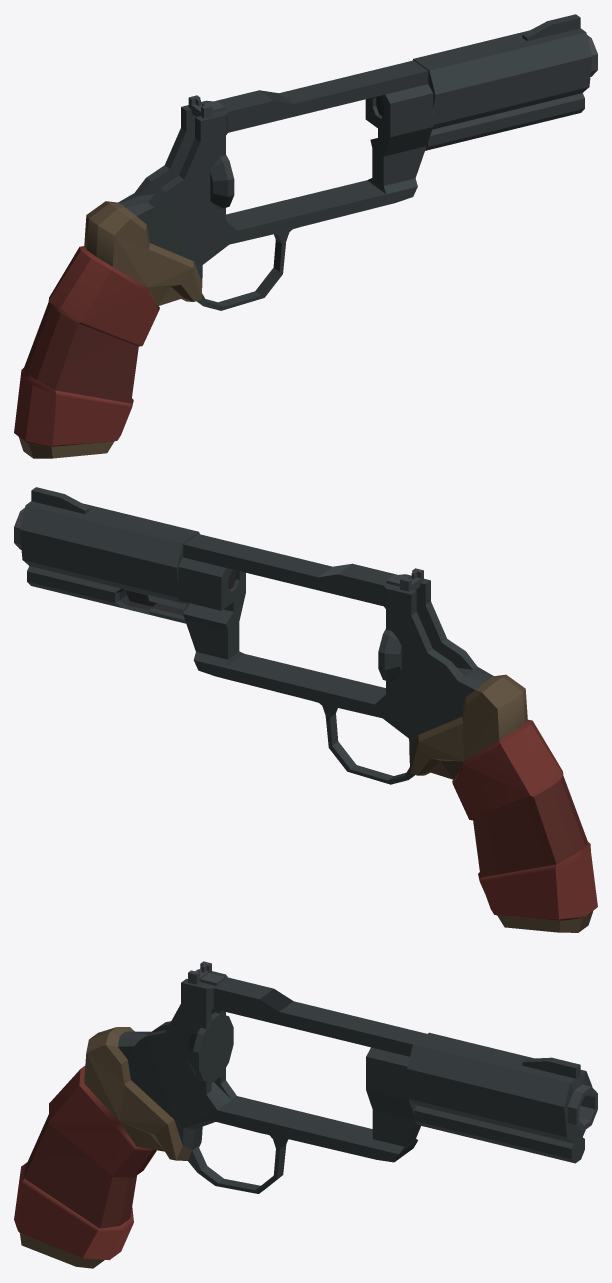
Rendered from apoc_SM_Wep_Revolver_01.gltf.
3 views of the same model, one above another, from view 1: azimuth 30°, elevation 25°; view 2: azimuth 150°, elevation 25°; view 3: azimuth 330°, elevation 25° (orthographic).
Parts seen in each view (by area): view 1: SM_Wep_Revolver_01; view 2: SM_Wep_Revolver_01; view 3: SM_Wep_Revolver_01.
Boxes of the visible parts, <box> form: SM_Wep_Revolver_01: <box>14,14,597,458</box>; SM_Wep_Revolver_01: <box>14,487,597,932</box>; SM_Wep_Revolver_01: <box>14,961,597,1268</box>.
Size of the model in its own units: 0.3815 by 0.2068 by 0.041.
1 material, 1 textured.
